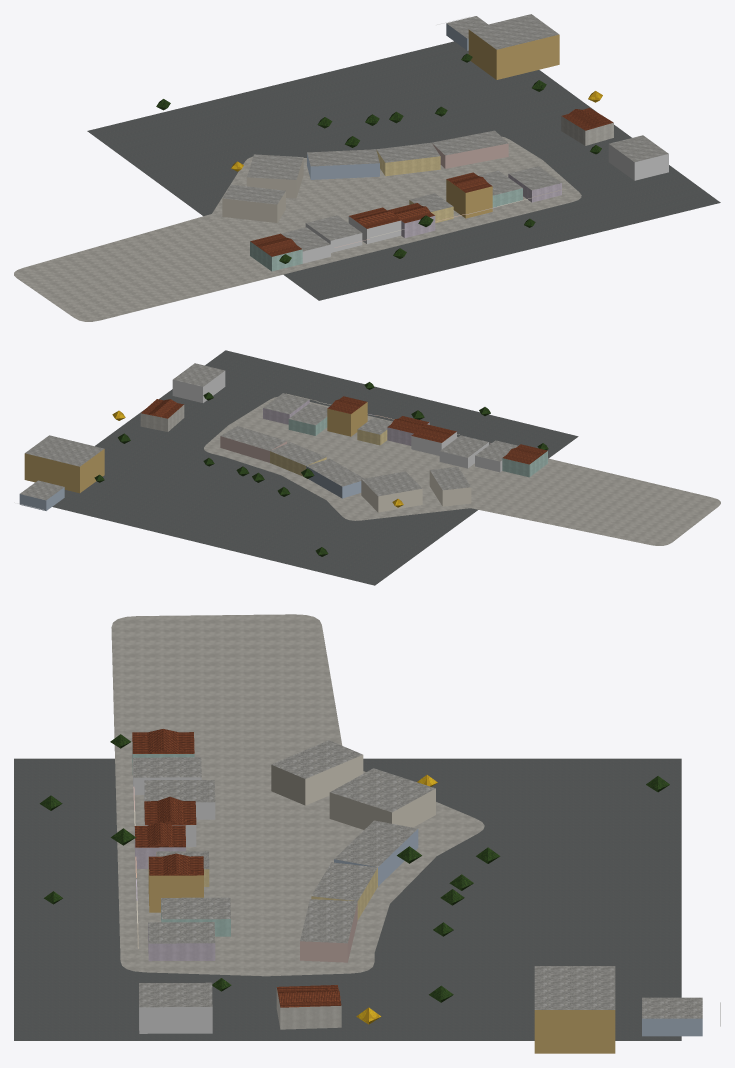
The model's file is cidade_S01_02_lod.gltf.
The picture shows the model from 3 angles, top to bottom: view 1: azimuth 30°, elevation 25°; view 2: azimuth 150°, elevation 25°; view 3: azimuth 270°, elevation 25°; orthographic projection. The views are drawn at different scales.
Visible parts, largest first — view 1: S01_02_Chao_LOD2, S01_02_Edificios_LOD1, S01_02_Silhueta_LOD2, S01_02_Vegetacao_LOD2; view 2: S01_02_Chao_LOD2, S01_02_Edificios_LOD1, S01_02_Silhueta_LOD2, S01_02_Vegetacao_LOD2; view 3: S01_02_Chao_LOD2, S01_02_Edificios_LOD1, S01_02_Silhueta_LOD2, S01_02_Vegetacao_LOD2.
Boxes of the visible parts, x1,y1,x2,y2 form: S01_02_Chao_LOD2: (14, 41, 720, 321); S01_02_Edificios_LOD1: (222, 14, 668, 271); S01_02_Silhueta_LOD2: (250, 108, 613, 270); S01_02_Vegetacao_LOD2: (156, 53, 602, 263); S01_02_Chao_LOD2: (52, 350, 720, 585); S01_02_Edificios_LOD1: (14, 363, 547, 512); S01_02_Silhueta_LOD2: (140, 396, 547, 476); S01_02_Vegetacao_LOD2: (94, 382, 548, 556); S01_02_Chao_LOD2: (14, 614, 681, 1040); S01_02_Edificios_LOD1: (132, 729, 720, 1053); S01_02_Silhueta_LOD2: (132, 732, 341, 1029); S01_02_Vegetacao_LOD2: (39, 734, 669, 1024).
Size of the model in its own units: 156 by 7.37 by 106.
17 materials, 17 textured.
